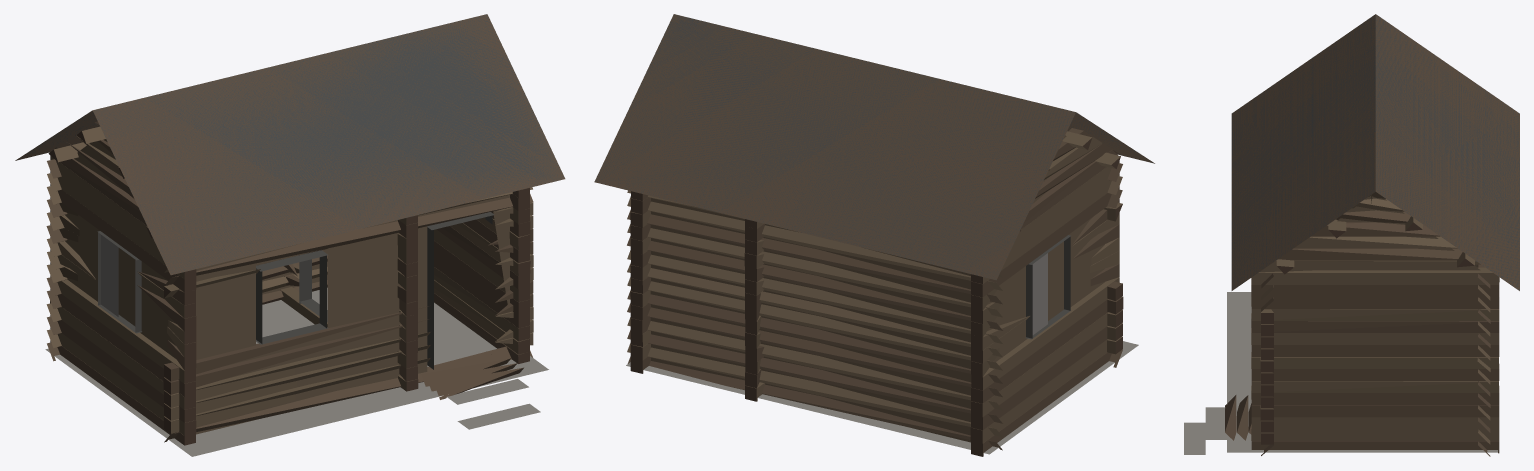
File: log-cabin.access-v8.lod2.glb
3 views of the same model, side by side, from view 1: azimuth 30°, elevation 25°; view 2: azimuth 150°, elevation 25°; view 3: azimuth 270°, elevation 25° (orthographic). The views are drawn at different scales.
Visible parts, largest first — view 1: Base_Wood1b_0; view 2: Base_Wood1b_0; view 3: Base_Wood1b_0.
Boxes of the visible parts, box(x1,y1,x2,y2) form: Base_Wood1b_0: box(15, 14, 565, 456); Base_Wood1b_0: box(594, 14, 1154, 456); Base_Wood1b_0: box(1184, 14, 1519, 456).
Size of the model in its own units: 6.3 by 4.72 by 5.03.
